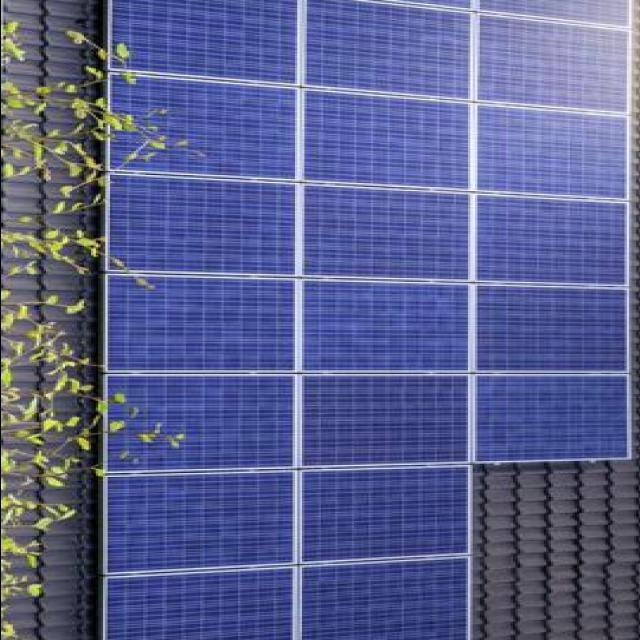no faulty: (110, 80, 293, 180), (113, 178, 297, 274), (109, 276, 298, 368), (113, 378, 292, 474), (107, 478, 296, 567), (310, 0, 472, 98), (482, 10, 628, 117), (294, 188, 468, 277), (117, 0, 297, 83), (302, 95, 468, 185), (304, 282, 470, 368), (477, 105, 630, 198), (305, 468, 463, 558), (302, 380, 466, 462), (477, 375, 630, 460), (478, 286, 630, 371), (298, 565, 470, 637), (108, 573, 291, 640), (475, 202, 627, 282)
